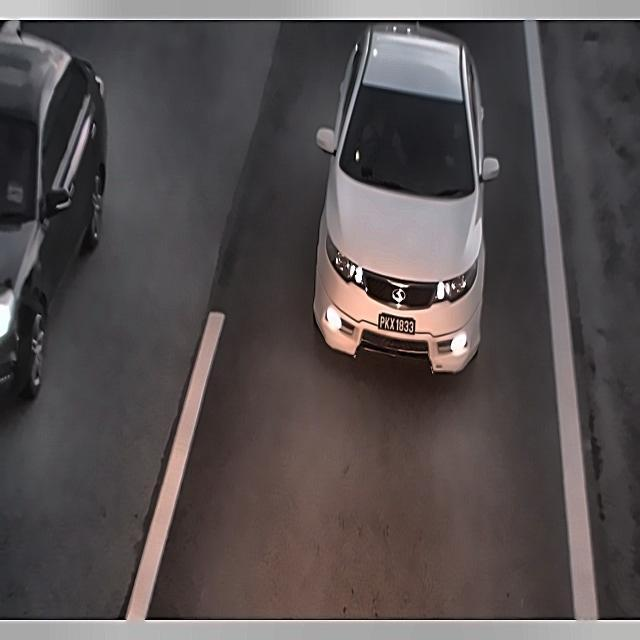car: (373, 309, 419, 342)
